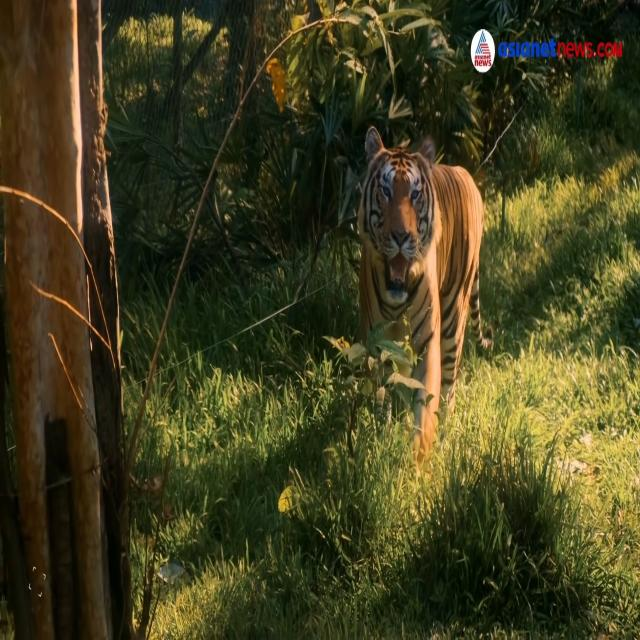TIGER: (352, 123, 501, 388)
